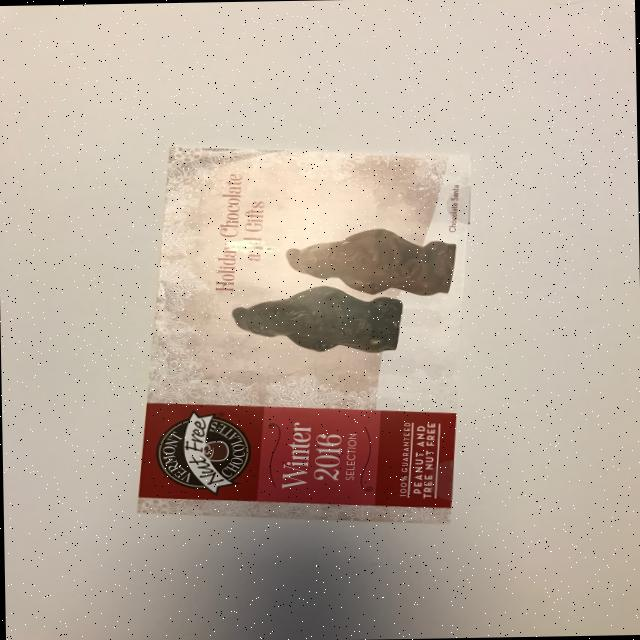paper: (130, 140, 476, 528)
